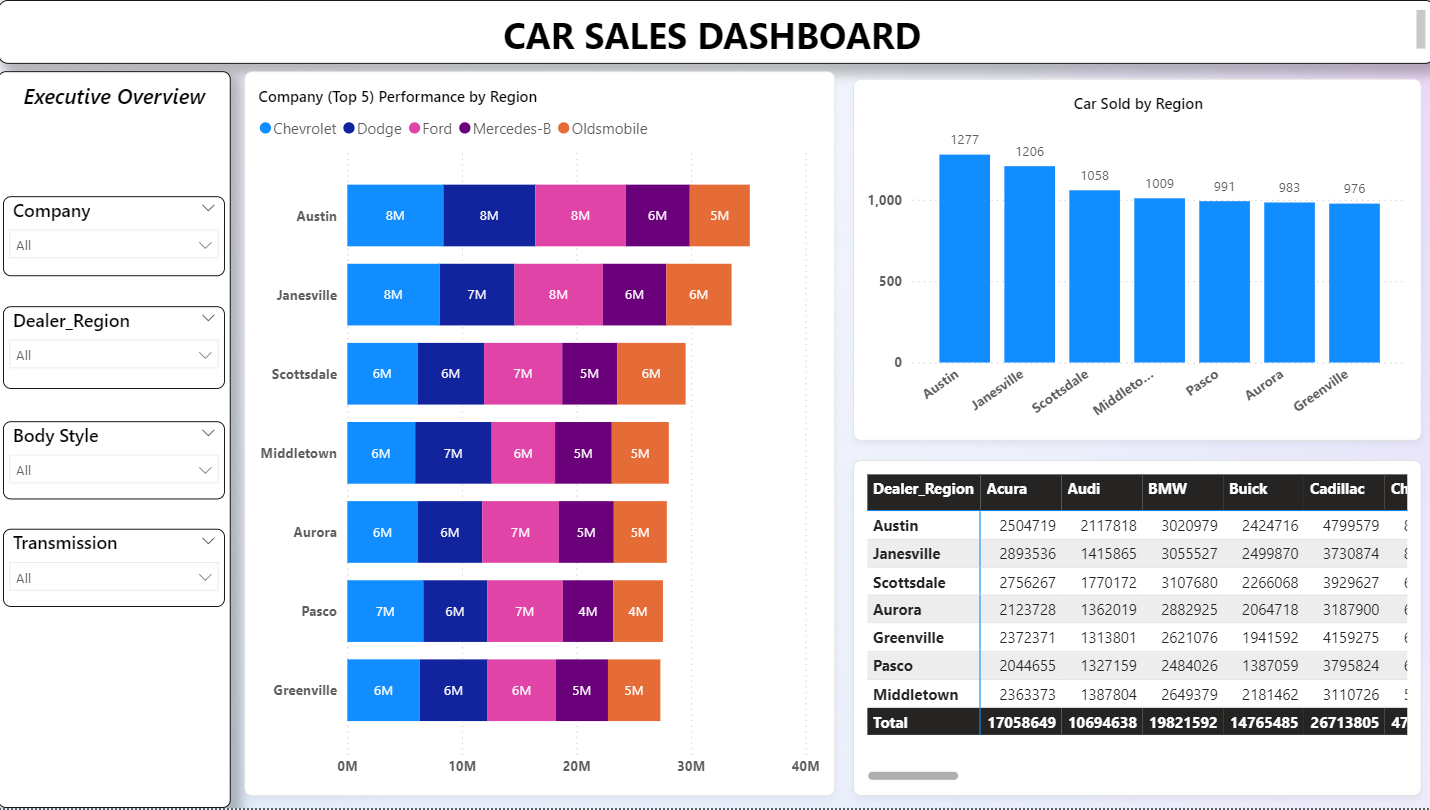

This screenshot's page, from the dashboard's own definition file:
{"tool":"powerbi","page":{"name":"Regional Analysis","canvas":[1280,720],"ordinal":3},"visuals":[{"type":"textbox","box":[0,0,1280,56.7],"z":0},{"type":"textbox","box":[0,63.9,207.5,656.3],"z":1000},{"type":"barChart","title":"Company (Top 5) Performance by Region","fields":{"Category":["Car_sales.Dealer_Region"],"Series":["Car_sales.Company"],"Y":["Car_sales.Total Revenue"]},"box":[219.6,63.9,526,645.4],"z":3000},{"type":"slicer","title":"Revenue by Region","fields":{"Values":["Car_sales.Company"]},"box":[4.8,174.9,197.9,71.2],"z":4000},{"type":"pivotTable","title":"Transmission Analysis","fields":{"Rows":["Car_sales.Dealer_Region"],"Columns":["Car_sales.Company"],"Values":["Car_sales.Total Revenue"]},"box":[761.3,410.2,506.7,299.2],"z":6000},{"type":"slicer","title":"Revenue by Region","fields":{"Values":["Car_sales.Body Style"]},"box":[4.8,375.2,197.9,70],"z":7000},{"type":"slicer","title":"Revenue by Region","fields":{"Values":["Car_sales.Dealer_Region"]},"box":[4.8,272.7,197.9,73.6],"z":8000},{"type":"columnChart","title":"Car Sold by Region","fields":{"Category":["Car_sales.Dealer_Region"],"Y":["CountNonNull(Car_sales.Car_id)"]},"box":[761.3,70,506.7,322.1],"z":8001},{"type":"slicer","title":"Revenue by Region","fields":{"Values":["Car_sales.Transmission"]},"box":[4.8,470.5,197.9,70],"z":8002}]}

Visuals, with their boxes in screenshot pixels (x1, y1, x2, y2), scaled from the page's 1280x720 canvas onto the 1430x810 screenshot:
textbox: bbox=(0, 0, 1429, 64)
textbox: bbox=(0, 72, 232, 809)
"Company (Top 5) Performance by Region" barChart: bbox=(245, 72, 833, 798)
"Revenue by Region" slicer: bbox=(5, 197, 226, 277)
"Transmission Analysis" pivotTable: bbox=(851, 461, 1417, 798)
"Revenue by Region" slicer: bbox=(5, 422, 226, 501)
"Revenue by Region" slicer: bbox=(5, 307, 226, 390)
"Car Sold by Region" columnChart: bbox=(851, 79, 1417, 441)
"Revenue by Region" slicer: bbox=(5, 529, 226, 608)
